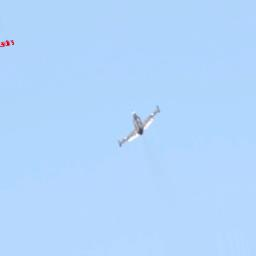Airplane: (117, 105, 162, 148)
